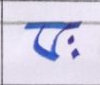anusvara: (72, 49, 79, 58)
